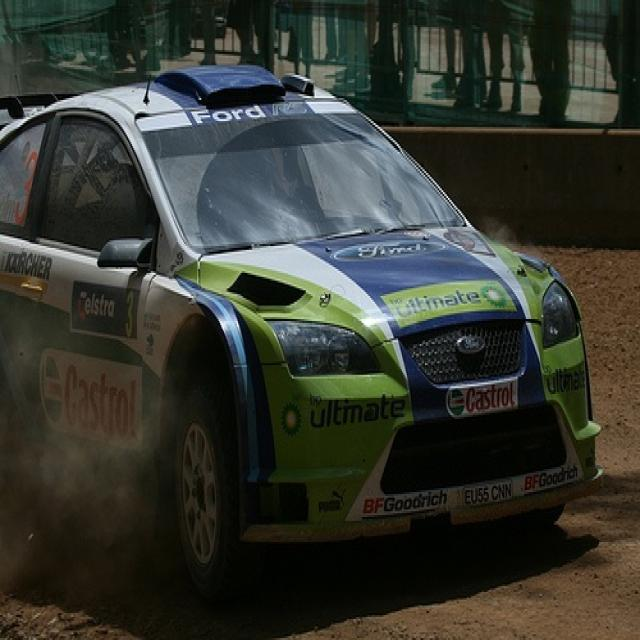car: (0, 66, 604, 584)
